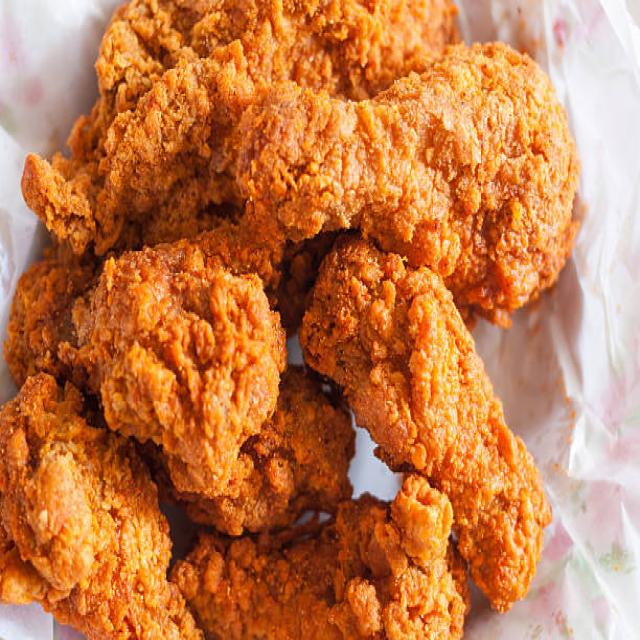Frango: (0, 0, 586, 640)
